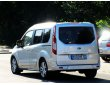License Plates: (69, 52, 89, 58)
